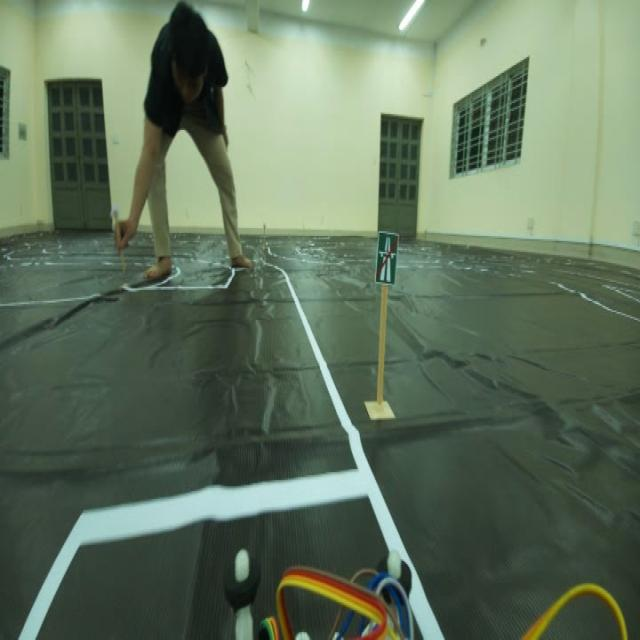highway_exit: (372, 215, 407, 292)
